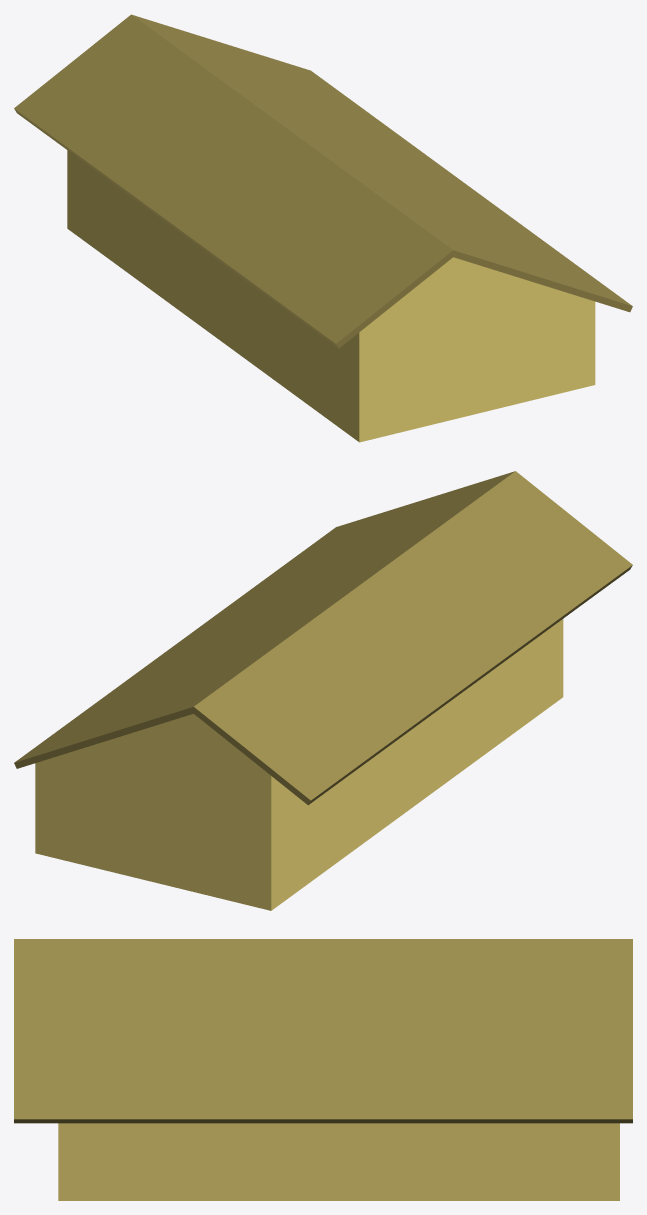
File: result.glb
The picture shows the model from 3 angles, top to bottom: view 1: azimuth 30°, elevation 25°; view 2: azimuth 150°, elevation 25°; view 3: azimuth 270°, elevation 25°; orthographic projection. The views are drawn at different scales.
Parts seen in each view (by area): view 1: 086d3f50-4762-4e0d-8eb3-eca7c7db48dc__undefined (×2), eb5be536-2984-4965-9a51-a346e0d308c3__undefined; view 2: 086d3f50-4762-4e0d-8eb3-eca7c7db48dc__undefined (×2), eb5be536-2984-4965-9a51-a346e0d308c3__undefined; view 3: 086d3f50-4762-4e0d-8eb3-eca7c7db48dc__undefined, eb5be536-2984-4965-9a51-a346e0d308c3__undefined.
Part boxes in pixels (x1,y1,x2,y2): 086d3f50-4762-4e0d-8eb3-eca7c7db48dc__undefined (×2): (14,14,632,348); eb5be536-2984-4965-9a51-a346e0d308c3__undefined: (67,150,595,442); 086d3f50-4762-4e0d-8eb3-eca7c7db48dc__undefined (×2): (14,471,632,805); eb5be536-2984-4965-9a51-a346e0d308c3__undefined: (35,619,563,910); 086d3f50-4762-4e0d-8eb3-eca7c7db48dc__undefined: (14,939,632,1123); eb5be536-2984-4965-9a51-a346e0d308c3__undefined: (58,1123,619,1200).
Size of the model in its own units: 1256 by 776 by 2360.
